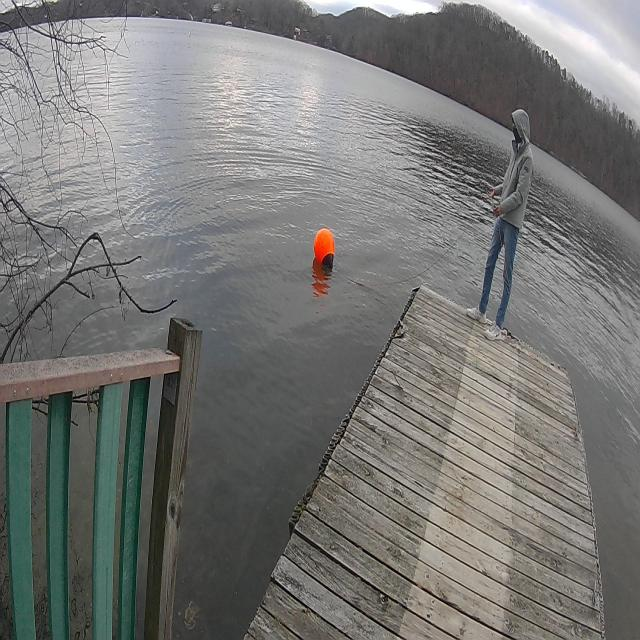Buoy: (310, 220, 340, 284)
